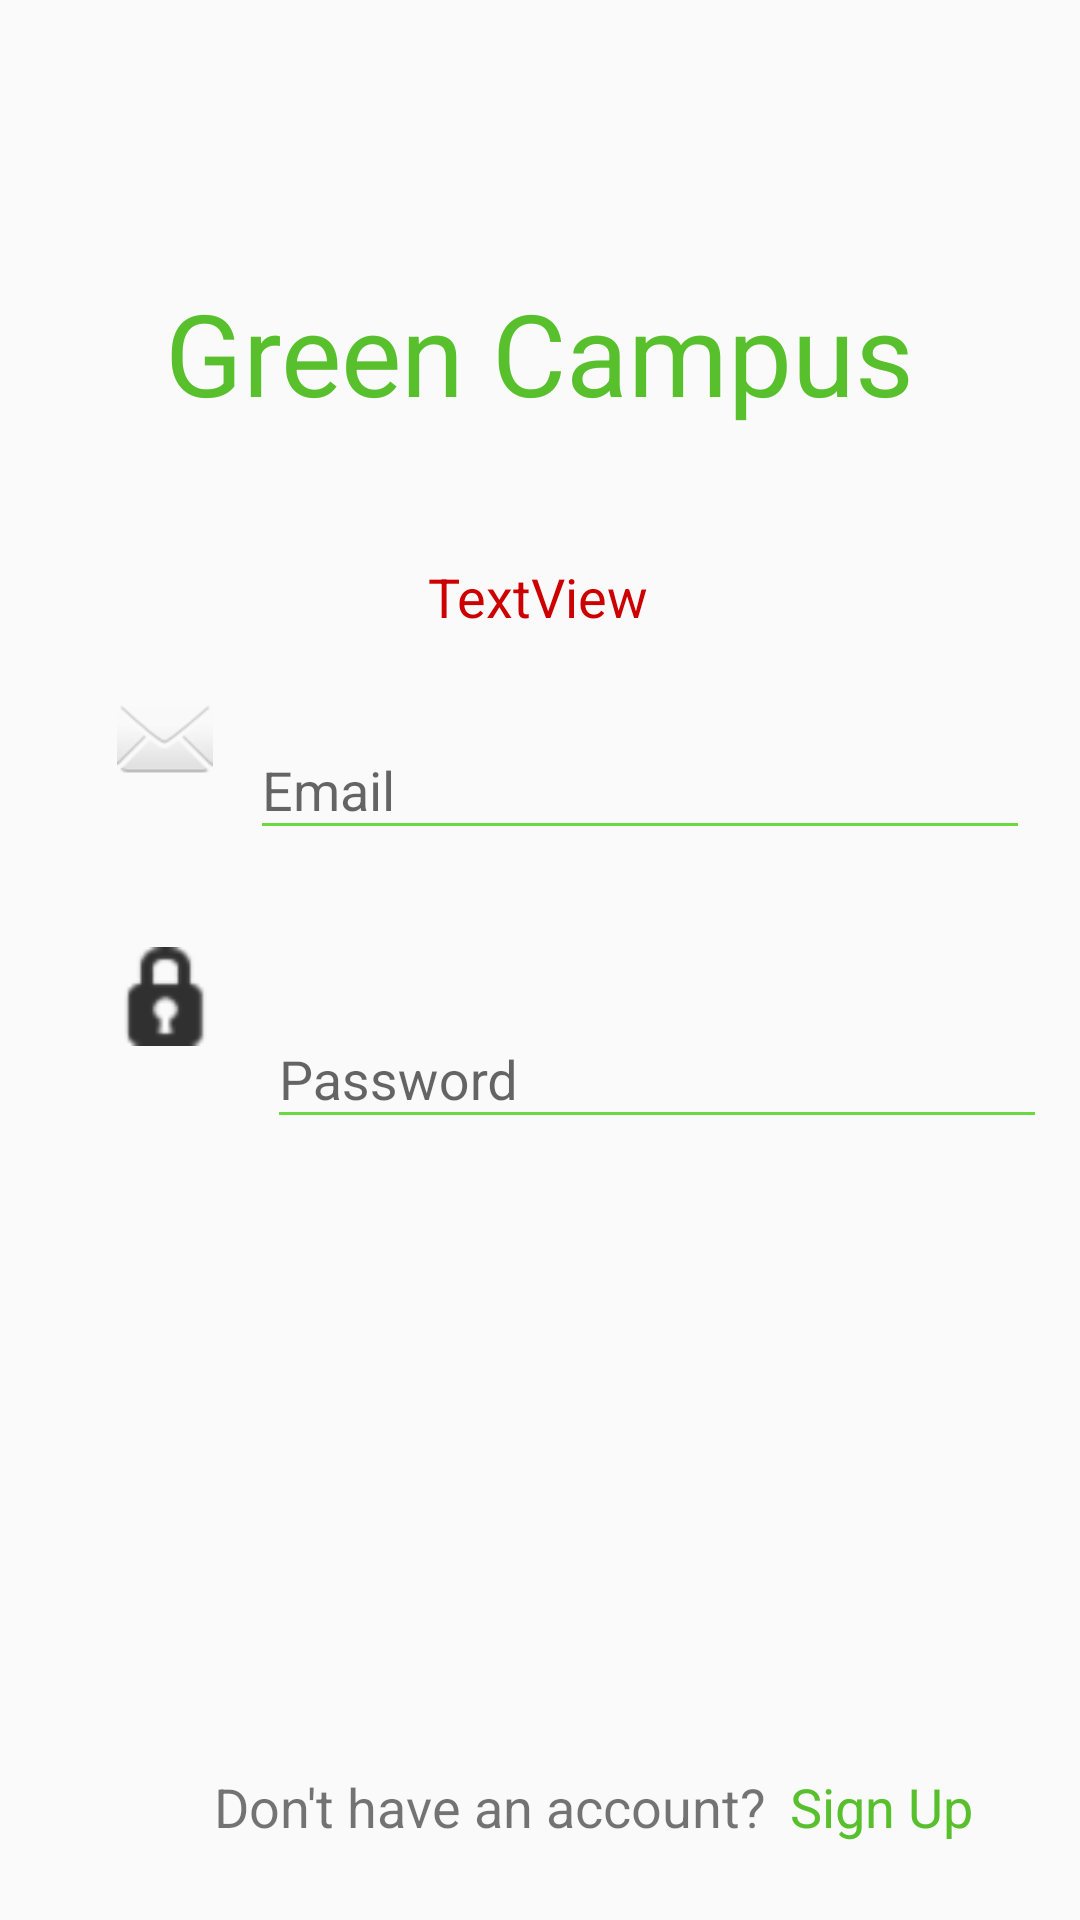

Icon click points for this 1080×1920 phone screenshot, format [x,y]:
secure: [165,996]
